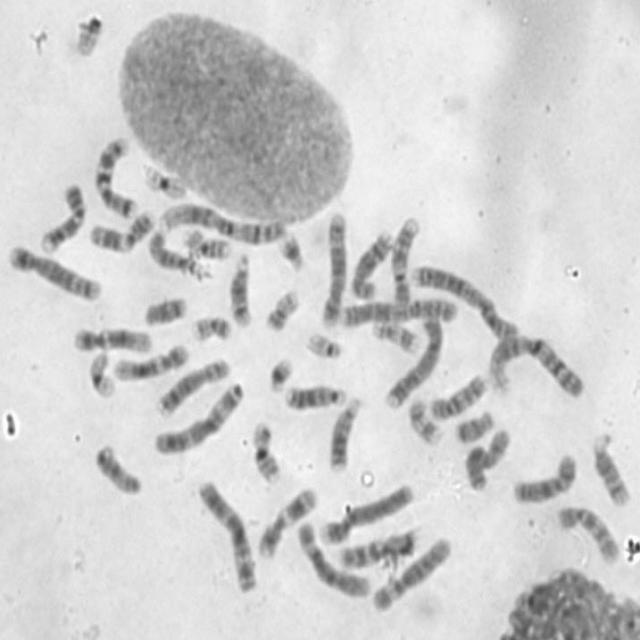A1: (484, 330, 586, 400), (156, 200, 288, 246)
A2: (406, 260, 519, 342), (336, 293, 461, 329)
A3: (194, 476, 259, 595), (149, 381, 244, 456)
B4: (316, 479, 415, 548), (380, 310, 446, 412)
B5: (3, 242, 104, 304), (317, 207, 348, 328)
C10: (555, 502, 622, 566), (426, 369, 489, 422)
C11: (254, 482, 320, 562), (87, 205, 157, 255)
C12: (110, 340, 191, 382), (70, 322, 155, 356)
C6: (294, 516, 374, 600), (368, 533, 452, 613)
C7: (91, 134, 139, 219), (336, 526, 421, 570)
C8: (153, 353, 232, 419), (347, 226, 395, 302)
C9: (36, 177, 88, 255), (388, 211, 422, 308)
D13: (326, 392, 364, 474), (281, 380, 347, 412)
D14: (589, 431, 631, 508), (228, 251, 254, 329)
D15: (91, 441, 144, 498), (145, 228, 200, 278)
E16: (248, 418, 282, 488), (181, 225, 232, 261)
E17: (368, 316, 421, 358), (405, 394, 445, 447)
E18: (140, 293, 188, 328), (452, 407, 495, 445)
F19: (139, 159, 190, 201), (86, 348, 117, 398)
F20: (262, 286, 301, 334), (189, 312, 233, 344)
G21: (276, 225, 306, 274), (265, 353, 296, 394)
G22: (70, 14, 104, 60), (302, 327, 343, 361)
X: (510, 449, 578, 506), (462, 425, 514, 494)
